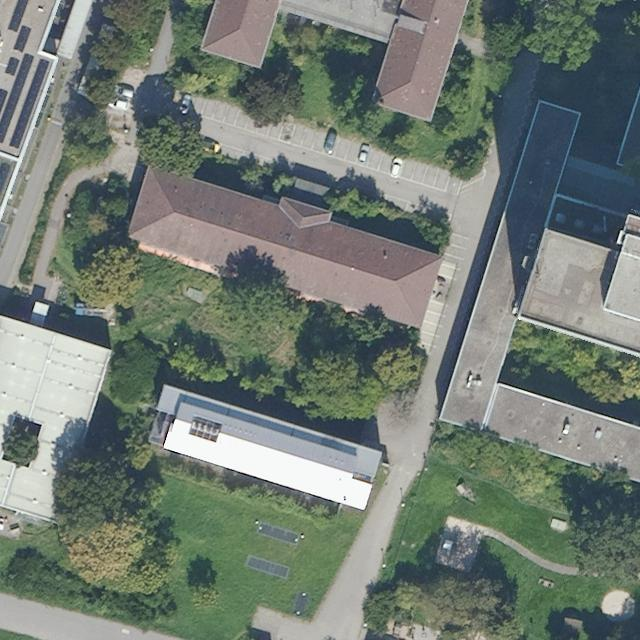PV: (7, 57, 51, 152), (0, 51, 36, 145), (6, 0, 30, 33), (12, 24, 33, 55), (4, 55, 21, 78), (0, 87, 9, 115)
